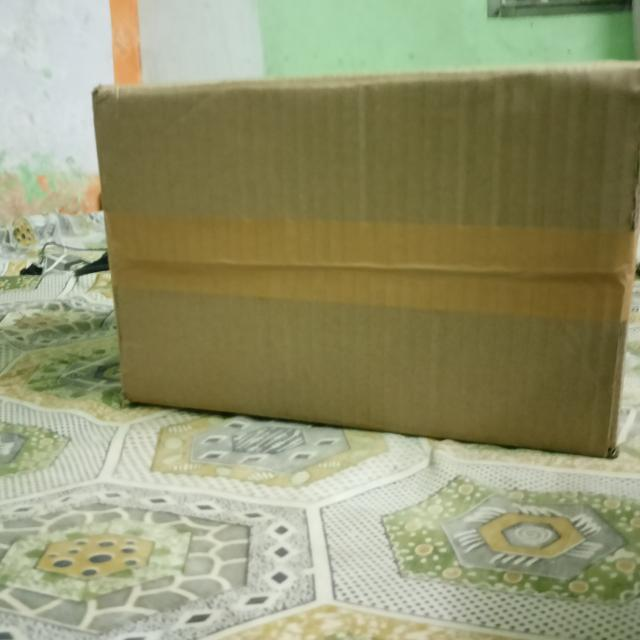box: (99, 70, 640, 460)
